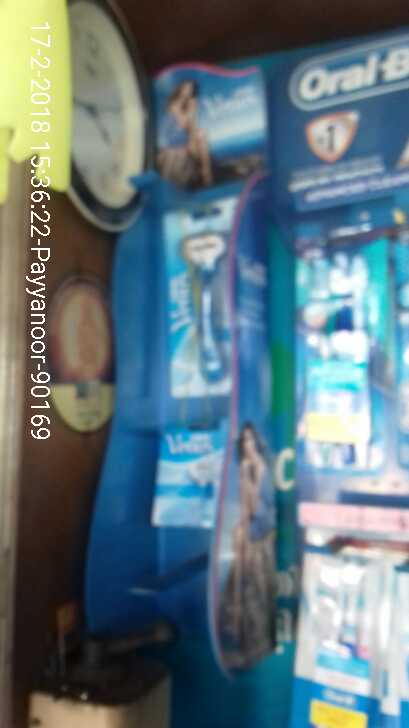beauty: (158, 204, 237, 389), (155, 427, 219, 533)
pharmacy: (299, 249, 409, 462), (294, 550, 396, 728)
